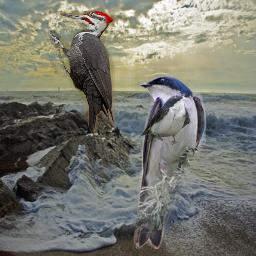Swallow: (131, 74, 206, 249), (140, 95, 190, 145)
Woodpecker: (50, 11, 115, 139)
